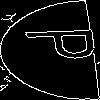P: (24, 25, 100, 62)
